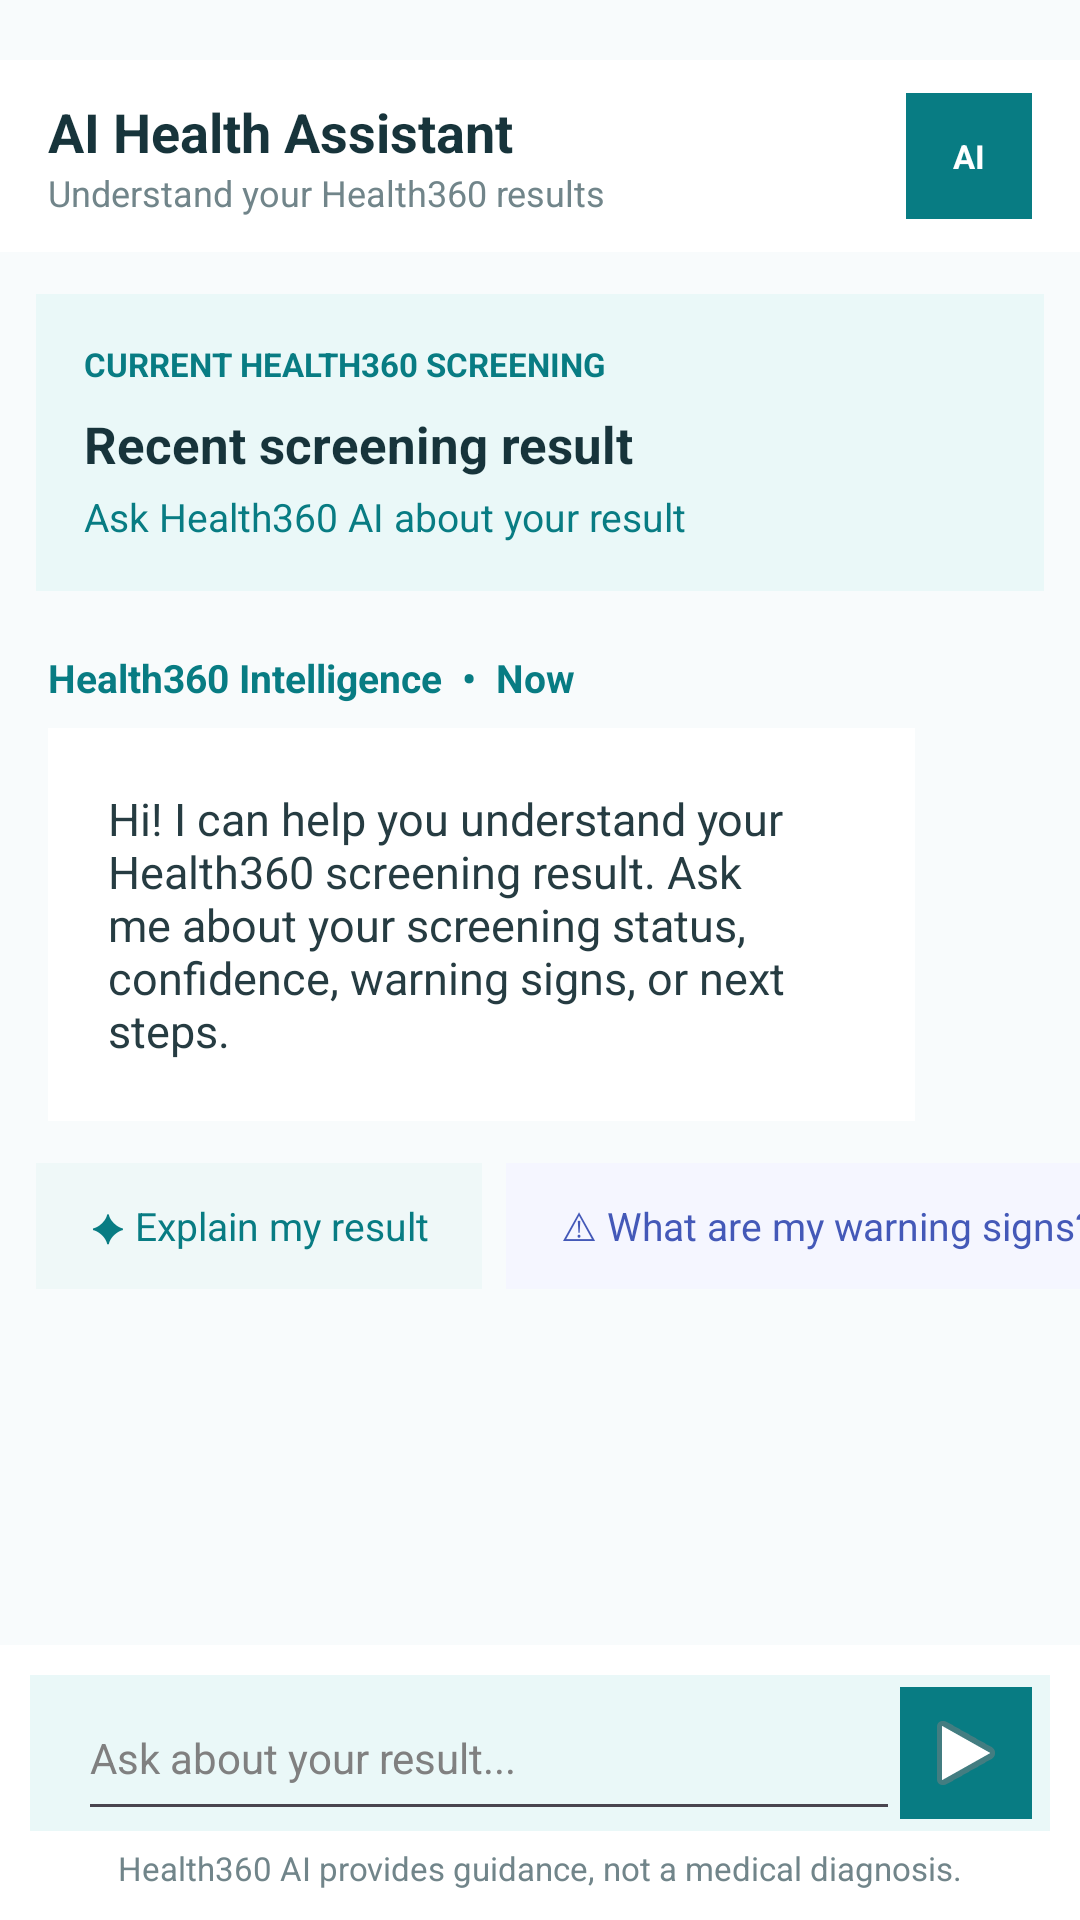

Named icons in this screenshot (1080 × 1920) and their centers, [x,y]:
Send: [966,1753]
